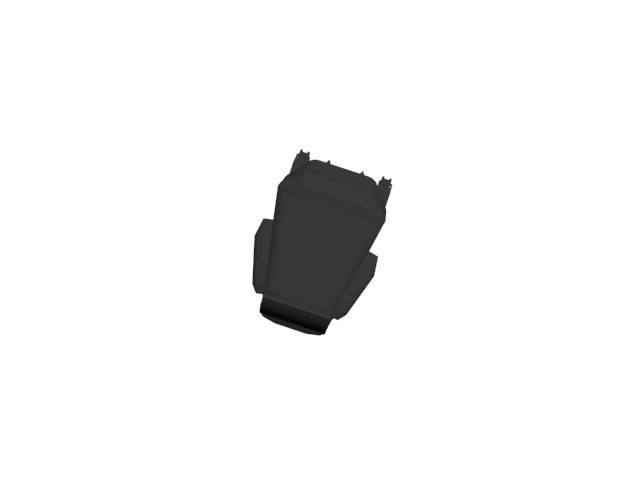back_pack: (249, 145, 400, 336)
